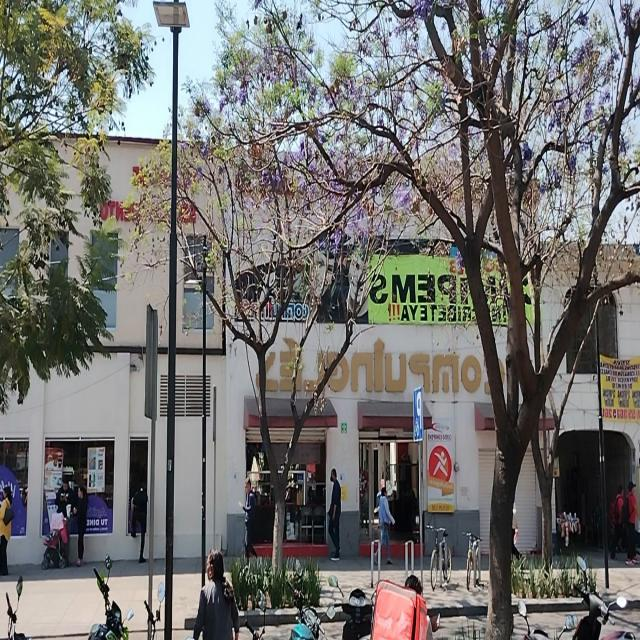adult: (195, 549, 239, 640), (373, 487, 394, 567), (55, 478, 74, 566), (328, 469, 342, 561), (0, 486, 13, 576), (626, 482, 640, 565), (610, 486, 625, 554), (74, 485, 87, 562)
